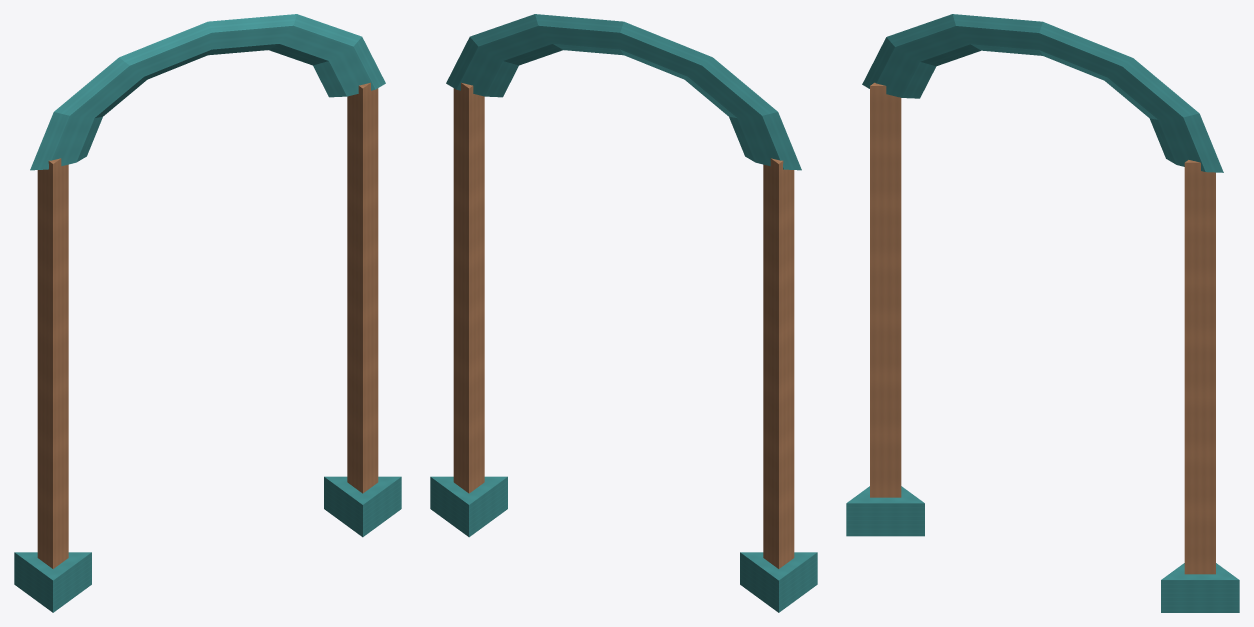
The model's file is atlas100-s091-a09.lod2.glb.
The picture shows the model from 3 angles, left to right: view 1: azimuth 30°, elevation 25°; view 2: azimuth 150°, elevation 25°; view 3: azimuth 330°, elevation 25°; orthographic projection.
Parts seen in each view (by area): view 1: atlas100-s091-a09:part-004, atlas100-s091-a09:part-000, atlas100-s091-a09:part-002, atlas100-s091-a09:part-003, atlas100-s091-a09:part-001; view 2: atlas100-s091-a09:part-004, atlas100-s091-a09:part-000, atlas100-s091-a09:part-002, atlas100-s091-a09:part-003, atlas100-s091-a09:part-001; view 3: atlas100-s091-a09:part-004, atlas100-s091-a09:part-002, atlas100-s091-a09:part-000, atlas100-s091-a09:part-001, atlas100-s091-a09:part-003.
Boxes of the visible parts, left/top/right/bottom form: atlas100-s091-a09:part-004: left=30, top=14, right=385, bottom=170; atlas100-s091-a09:part-000: left=37, top=158, right=68, bottom=568; atlas100-s091-a09:part-002: left=347, top=82, right=378, bottom=493; atlas100-s091-a09:part-003: left=324, top=476, right=401, bottom=537; atlas100-s091-a09:part-001: left=14, top=552, right=91, bottom=612; atlas100-s091-a09:part-004: left=446, top=14, right=801, bottom=170; atlas100-s091-a09:part-000: left=763, top=158, right=794, bottom=568; atlas100-s091-a09:part-002: left=453, top=82, right=484, bottom=493; atlas100-s091-a09:part-003: left=430, top=476, right=507, bottom=537; atlas100-s091-a09:part-001: left=740, top=552, right=817, bottom=612; atlas100-s091-a09:part-004: left=862, top=14, right=1223, bottom=172; atlas100-s091-a09:part-002: left=1184, top=160, right=1215, bottom=574; atlas100-s091-a09:part-000: left=870, top=82, right=901, bottom=497; atlas100-s091-a09:part-001: left=846, top=486, right=924, bottom=536; atlas100-s091-a09:part-003: left=1161, top=563, right=1239, bottom=612.
Bounding box in the file's own units: 2.4 × 3.3 × 0.433.
Materials: 2 (2 with a texture image).
